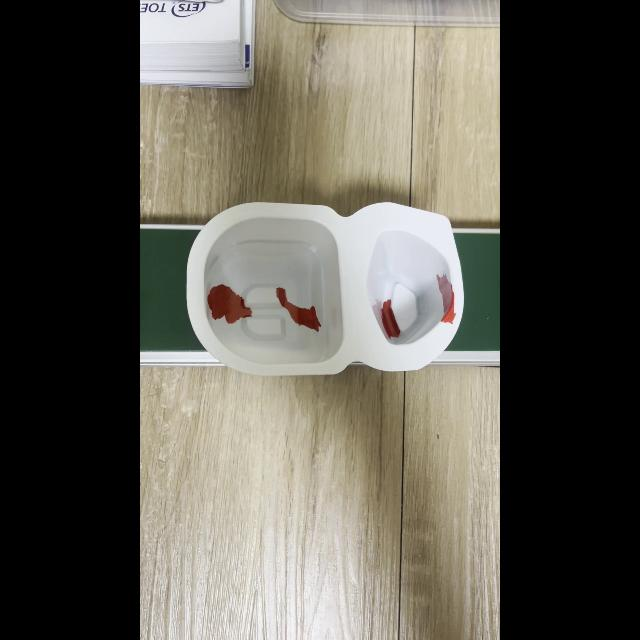dirty: (182, 224, 460, 360)
